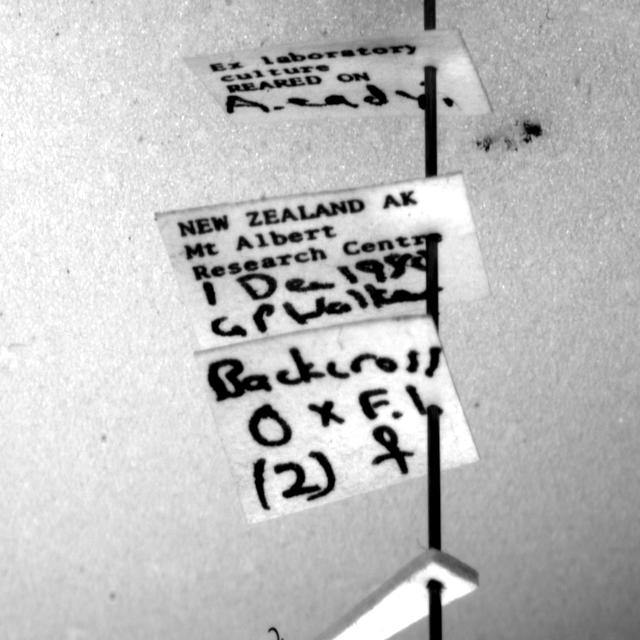hand_label: (195, 315, 479, 523)
mixed_label: (156, 172, 490, 349), (188, 28, 491, 124)
